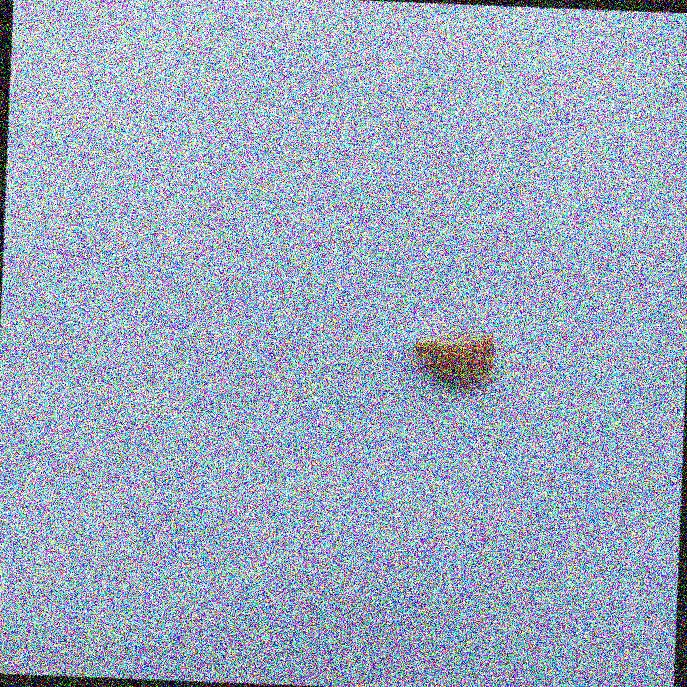grade4: (403, 324, 503, 395)
